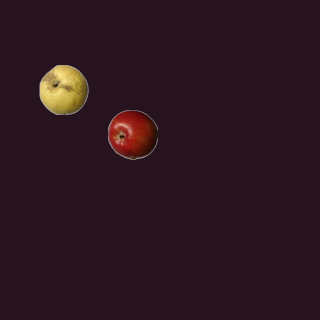Apple Braeburn: (107, 109, 157, 159)
Apple Golden 1: (38, 64, 88, 114)
